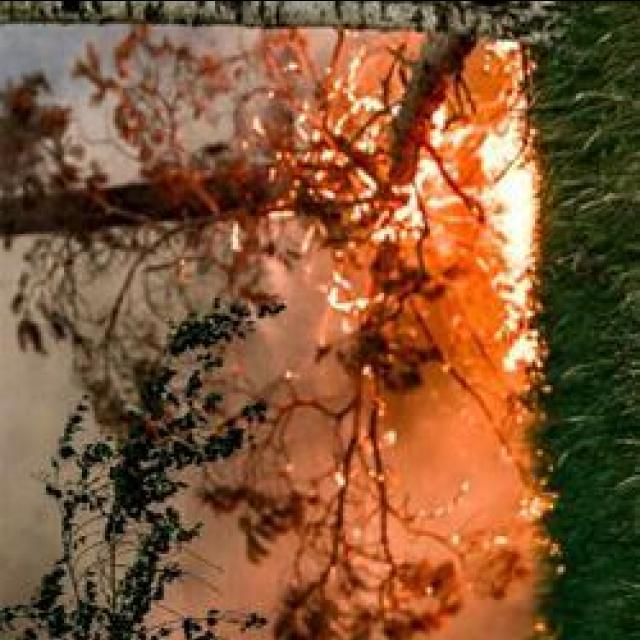fire: (491, 156, 538, 284)
